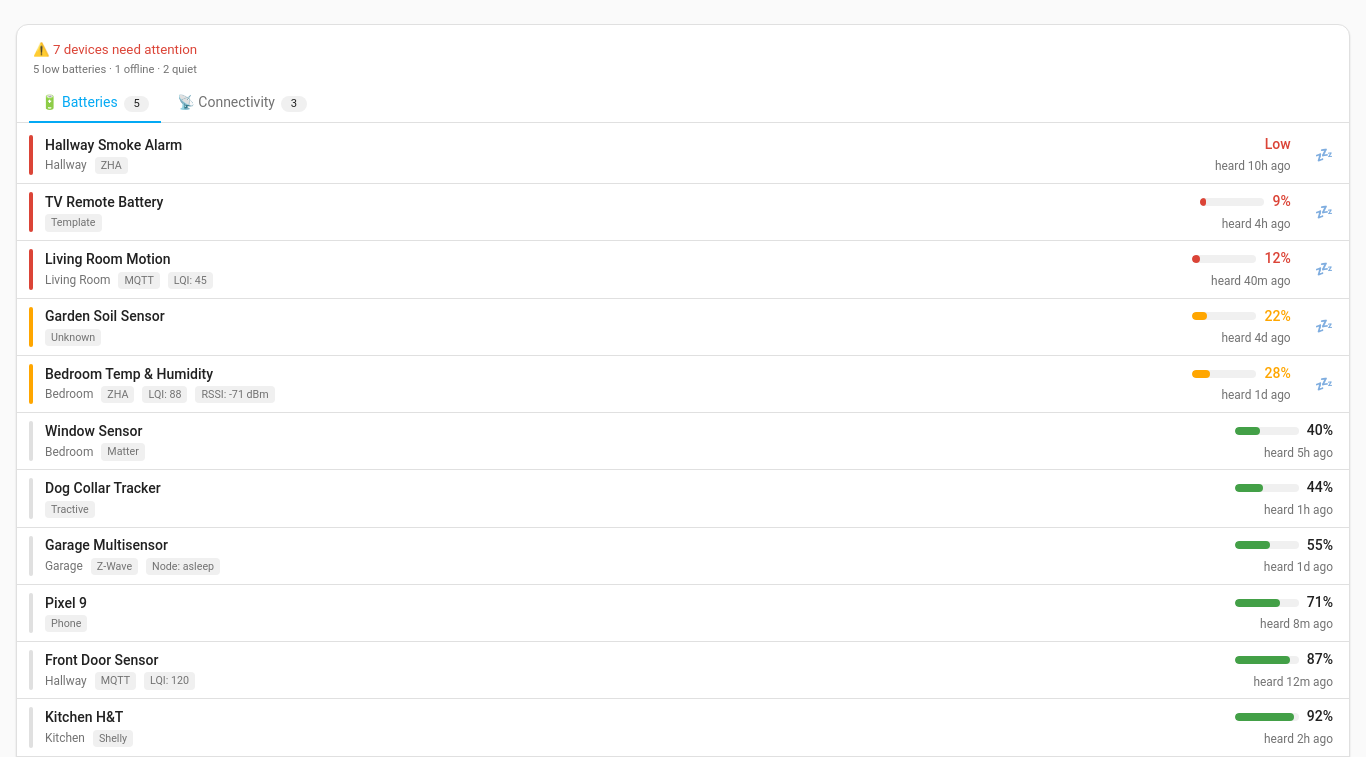
Test: App › lists working devices with unavailable parts under "to look at", without alerting
Expected: the text "⚠️ 7 devices need attention" is shown, [33, 41, 197, 60]
Expected: the button "to look at" is not shown
Click the tab "📡 Connectivity 3" at coordinates (242, 104), box [165, 85, 319, 123]
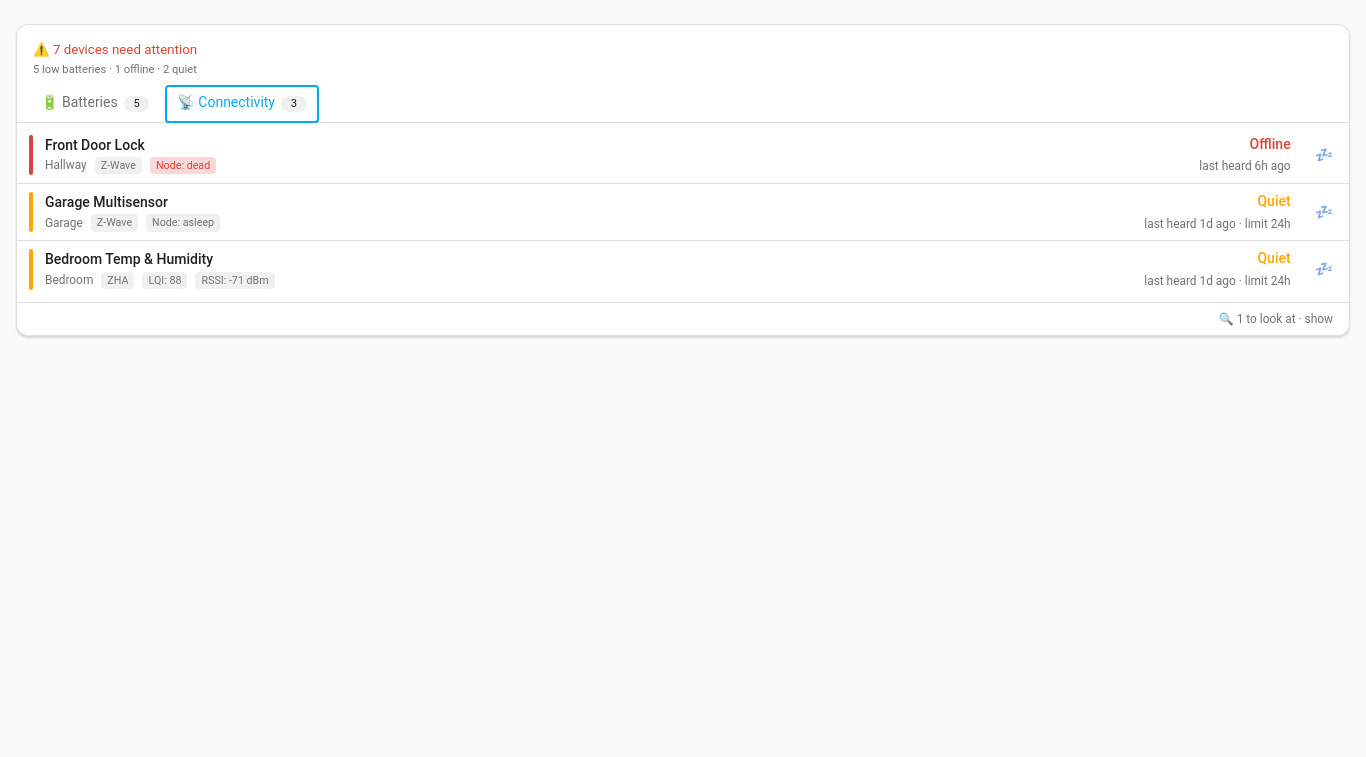
Expected: the text "Irrigation Controller" is not shown
Click the button "🔍 1 to look at · show" at coordinates (1276, 319), box [1203, 303, 1349, 335]
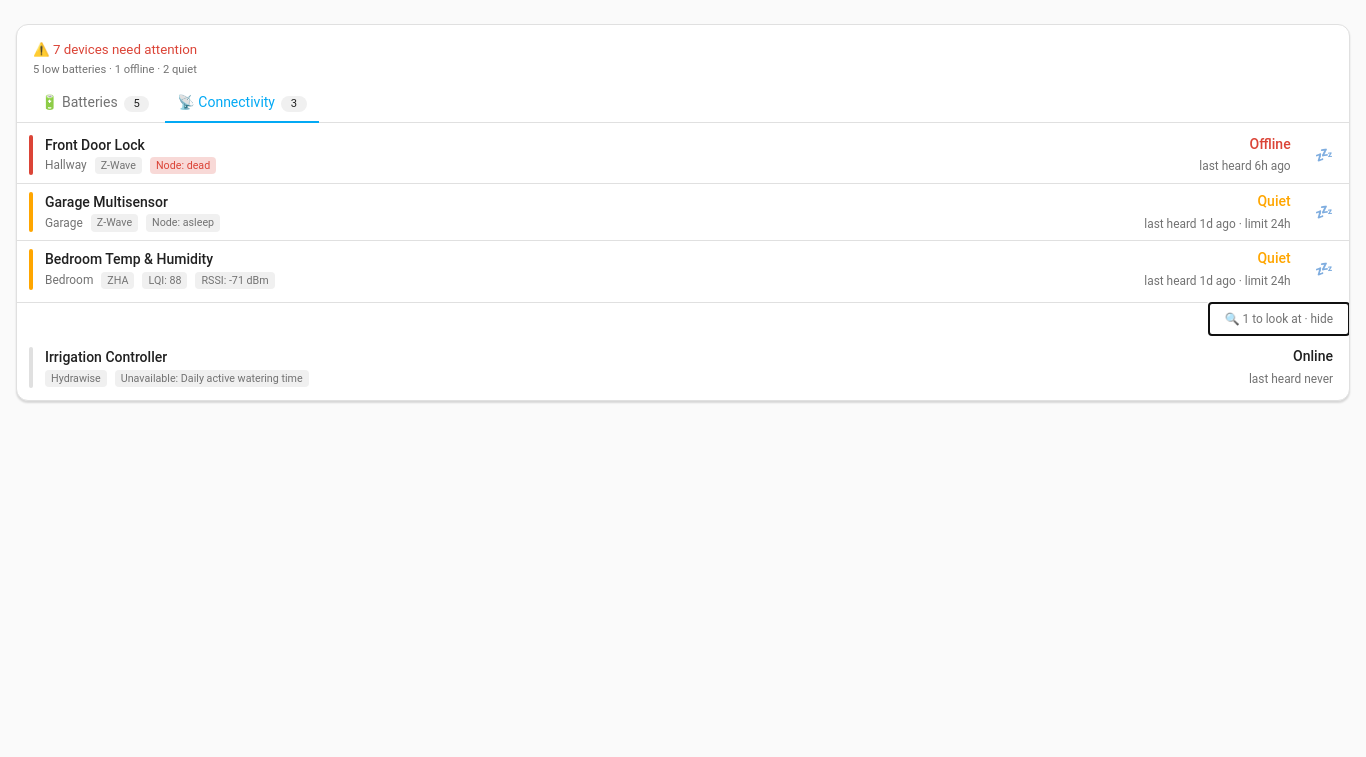
Expected: the button named "🔍 1 to look at · show" reads "🔍 1 to look at · hide", [1209, 303, 1349, 335]
Expected: the text "Unavailable: Daily active watering time" is shown, [115, 370, 309, 387]
Expected: the text "Online" is shown, [1293, 347, 1333, 367]
